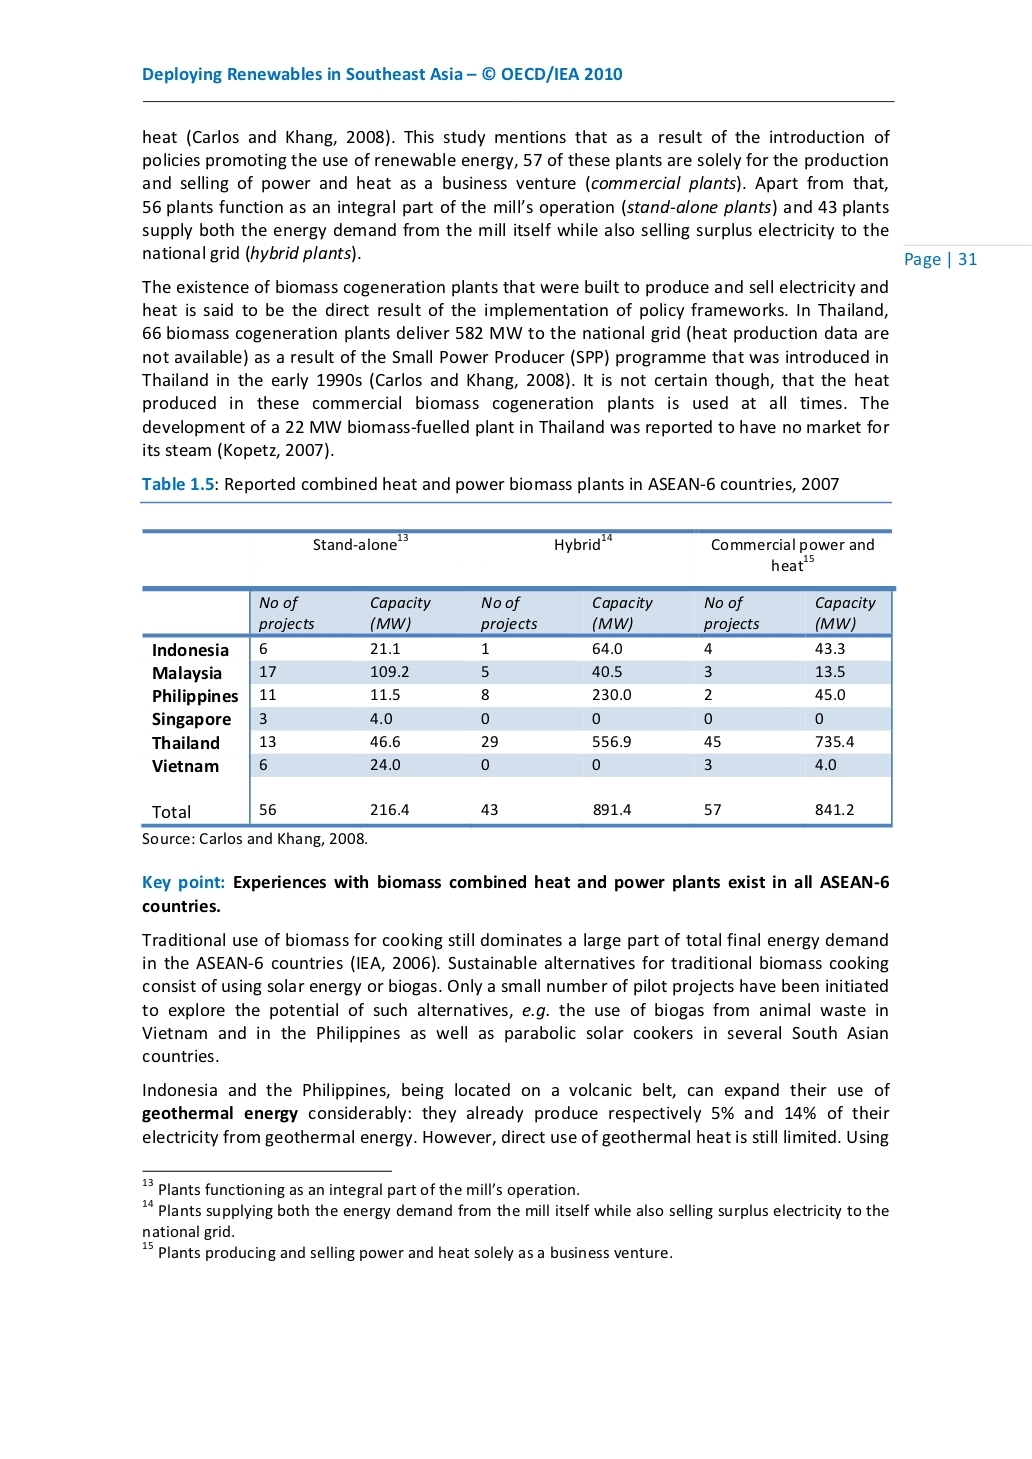Table: (141, 529, 896, 827)
